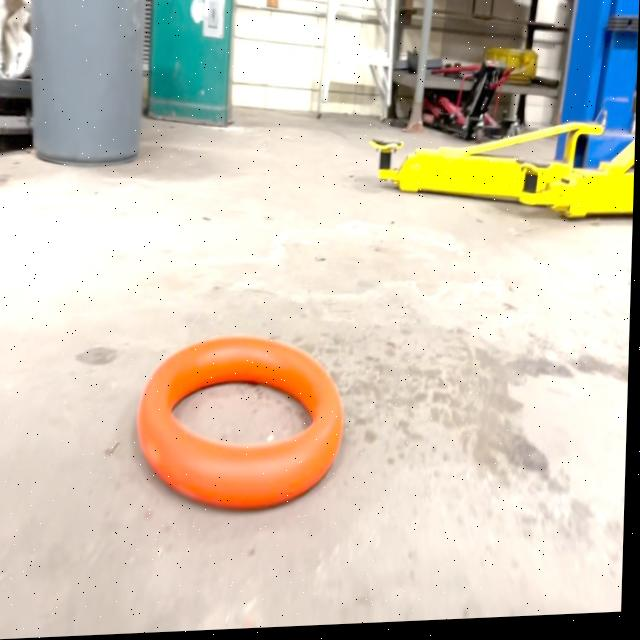note: (134, 339, 349, 516)
